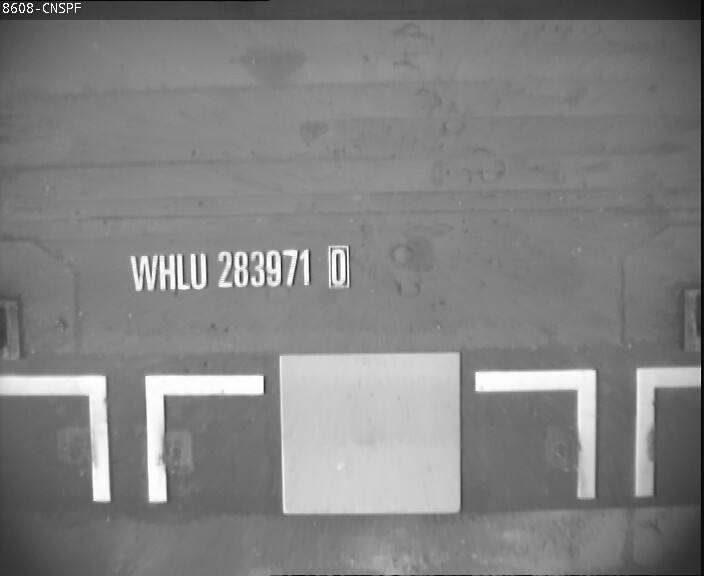groundmarker_1: (4, 372, 261, 504), (476, 367, 704, 502)
